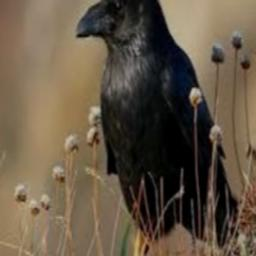Crow: (76, 0, 238, 251)
